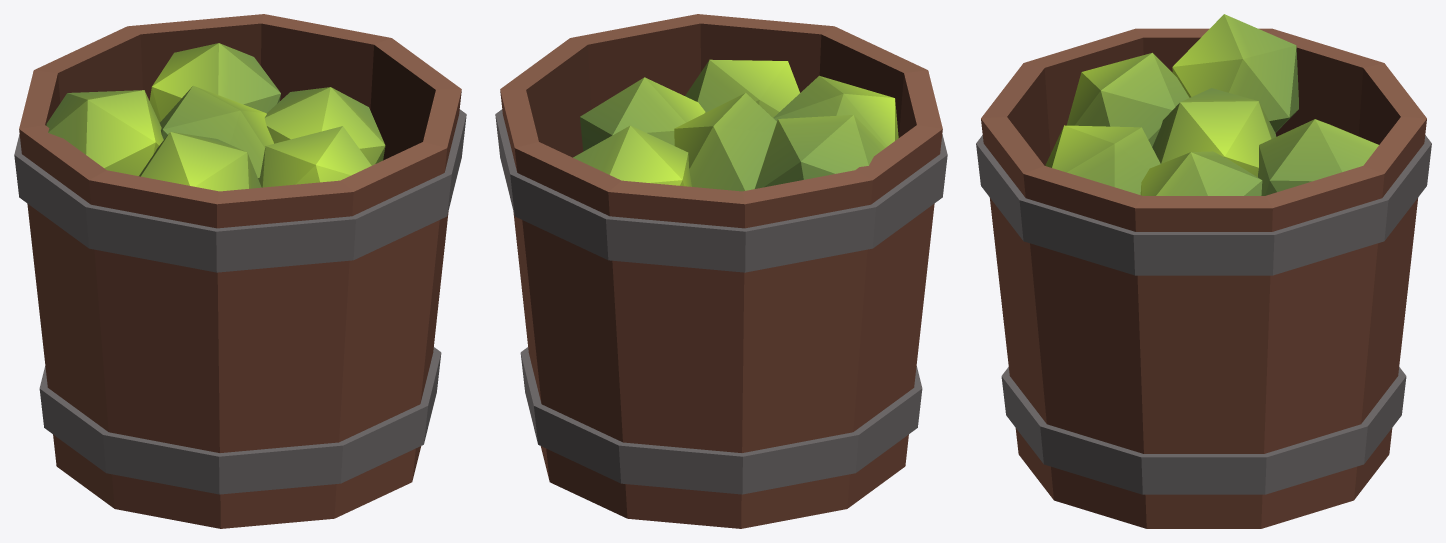
File: Fruit 4.glb
The picture shows the model from 3 angles, left to right: view 1: azimuth 30°, elevation 25°; view 2: azimuth 150°, elevation 25°; view 3: azimuth 270°, elevation 25°; orthographic projection.
Visible parts, largest first — view 1: Fruit 4; view 2: Fruit 4; view 3: Fruit 4.
Boxes of the visible parts, <box> form: Fruit 4: <box>14,14,466,528</box>; Fruit 4: <box>495,14,947,528</box>; Fruit 4: <box>976,14,1431,528</box>.
Size of what is drawn, in the model's own units: 0.5123 by 0.4848 by 0.5386.
1 material, 1 textured.
